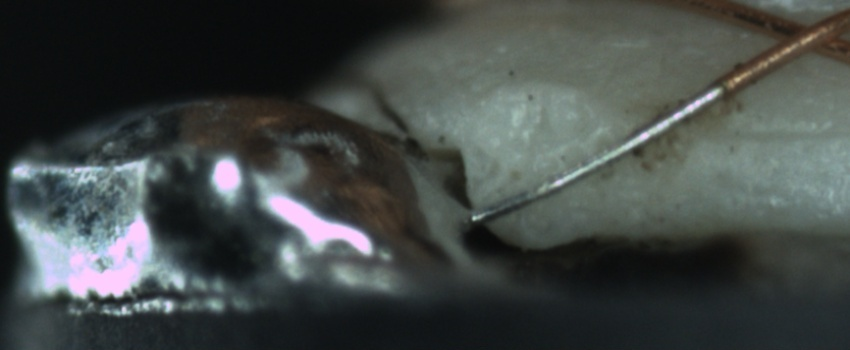CL: (758, 4, 845, 66)
DL: (676, 109, 850, 164)
TS: (474, 84, 726, 224)
